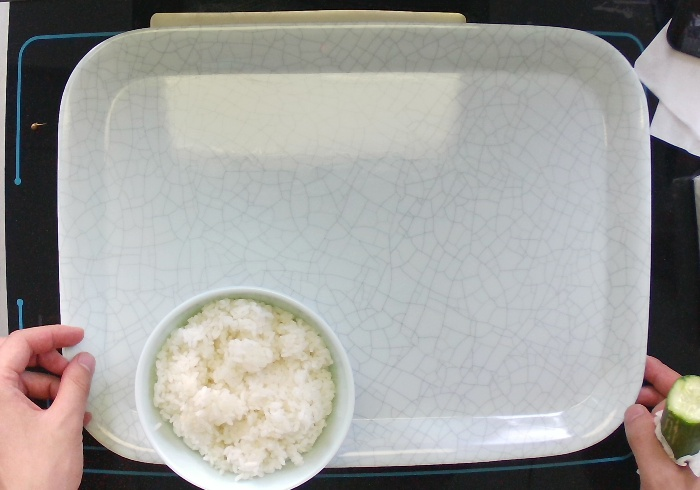JYsf-Fan_Wan: (126, 281, 352, 490)
